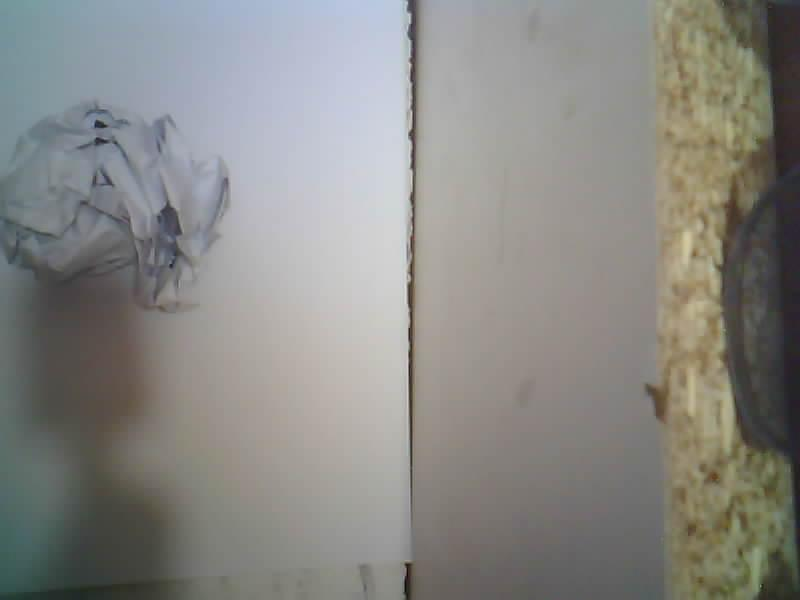biodegradable: (0, 101, 229, 310)
